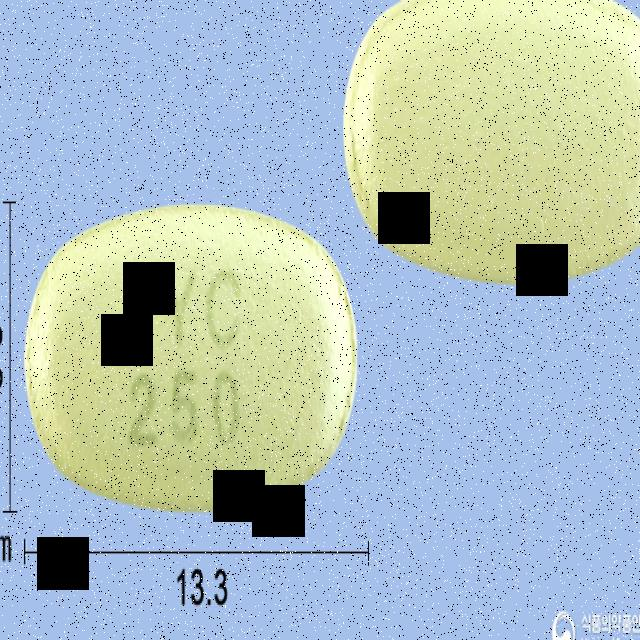Clafacin: (20, 194, 362, 521)
